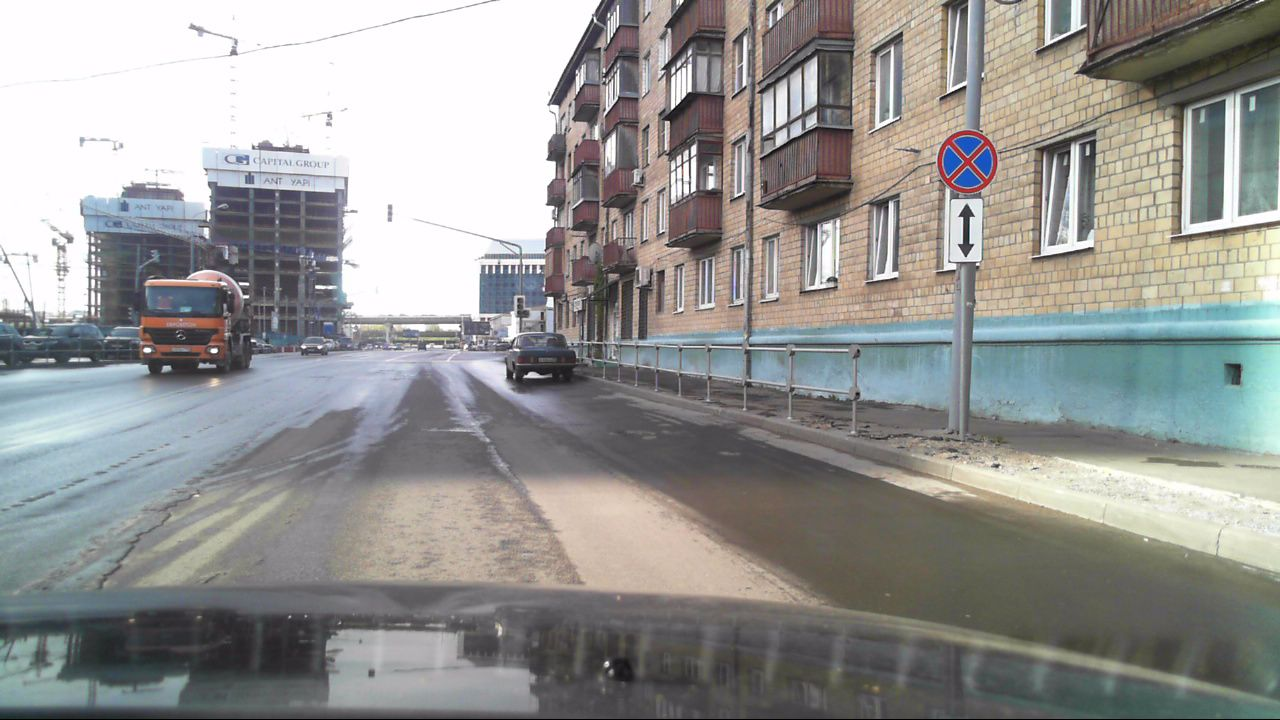No Parking: (934, 128, 999, 195)
